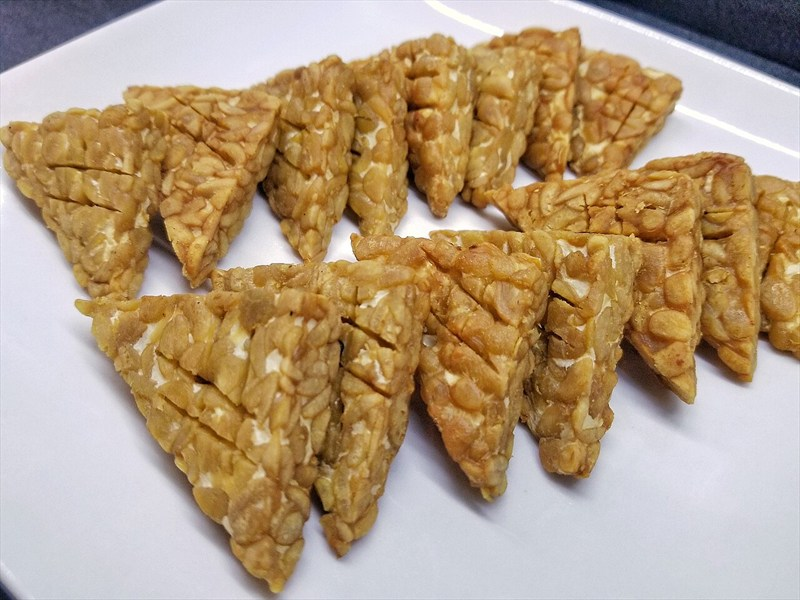Tempe Goreng: (127, 74, 743, 491)
